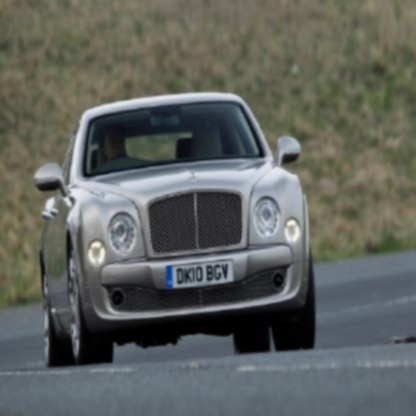Vehicle: (35, 90, 317, 370)
